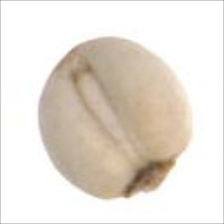L5: (71, 64, 141, 167), (45, 38, 105, 86), (120, 153, 180, 200)
L6: (36, 37, 196, 202)
